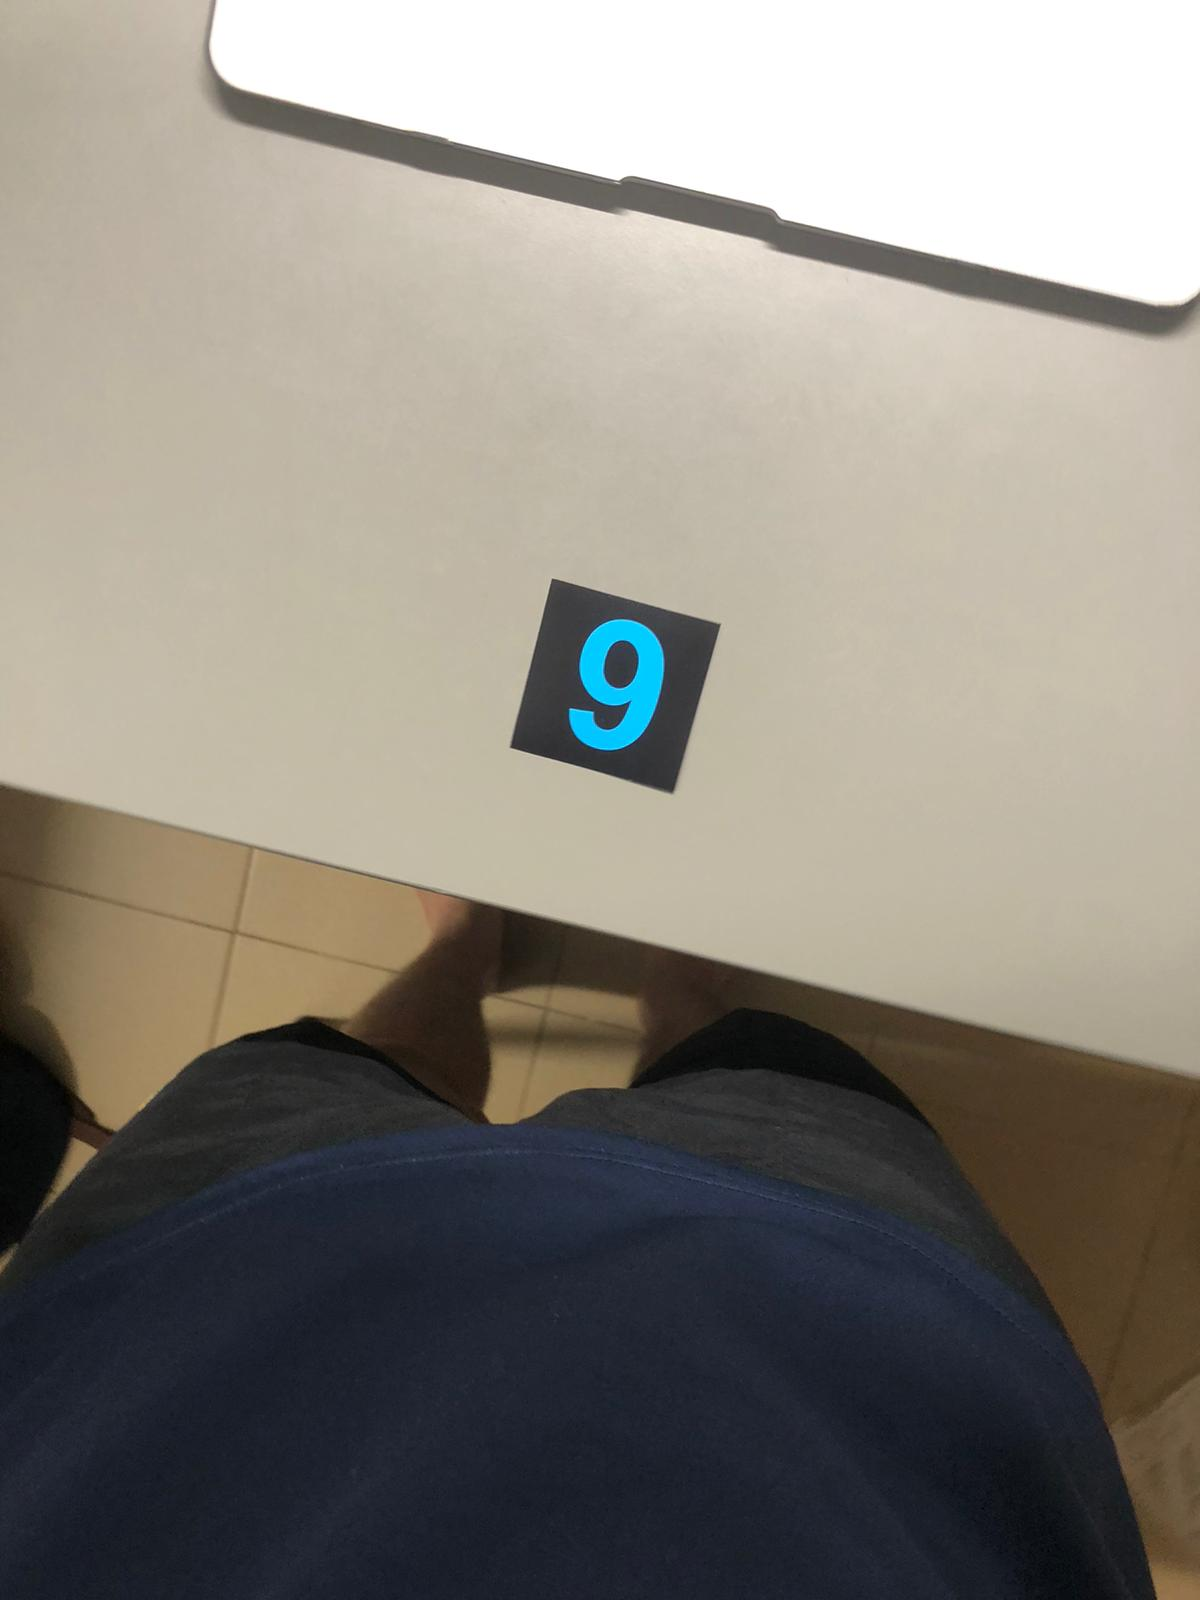Number 9: (532, 577, 708, 787)
